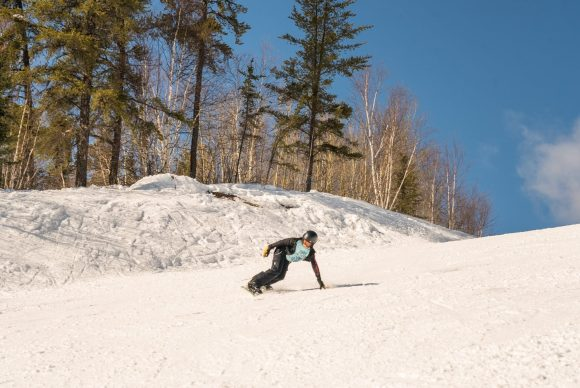snowboarder: (234, 225, 347, 300)
